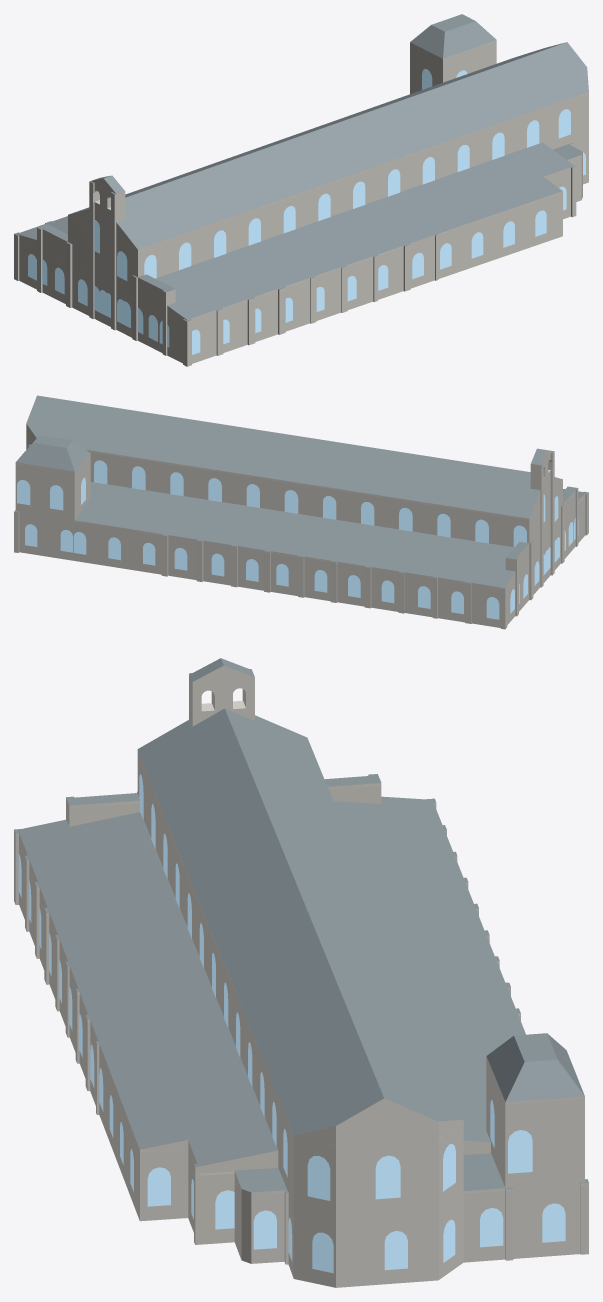
Rendered from detail.glb.
3 renders of one model, top to bottom at view 1: azimuth 30°, elevation 25°; view 2: azimuth 150°, elevation 25°; view 3: azimuth 270°, elevation 25°, orthographic. The views are drawn at different scales.
Visible parts, largest first — view 1: roof, stone, window, trim; view 2: roof, stone, window, trim; view 3: roof, stone, window, trim.
Part boxes in pixels (bbox=[...]): roof: bbox=[14, 14, 588, 321]; stone: bbox=[14, 40, 588, 366]; window: bbox=[28, 69, 585, 354]; trim: bbox=[17, 40, 588, 323]; roof: bbox=[14, 395, 588, 588]; stone: bbox=[14, 424, 588, 629]; window: bbox=[17, 444, 578, 619]; trim: bbox=[16, 433, 584, 588]; roof: bbox=[14, 658, 588, 1193]; stone: bbox=[14, 665, 588, 1287]; window: bbox=[18, 774, 565, 1273]; trim: bbox=[15, 752, 587, 1195].
Bounding box in the file's own units: 62.61 × 16 × 36.42.
